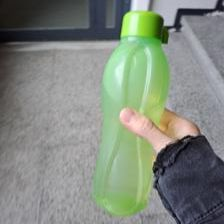bottle: (89, 8, 172, 221)
